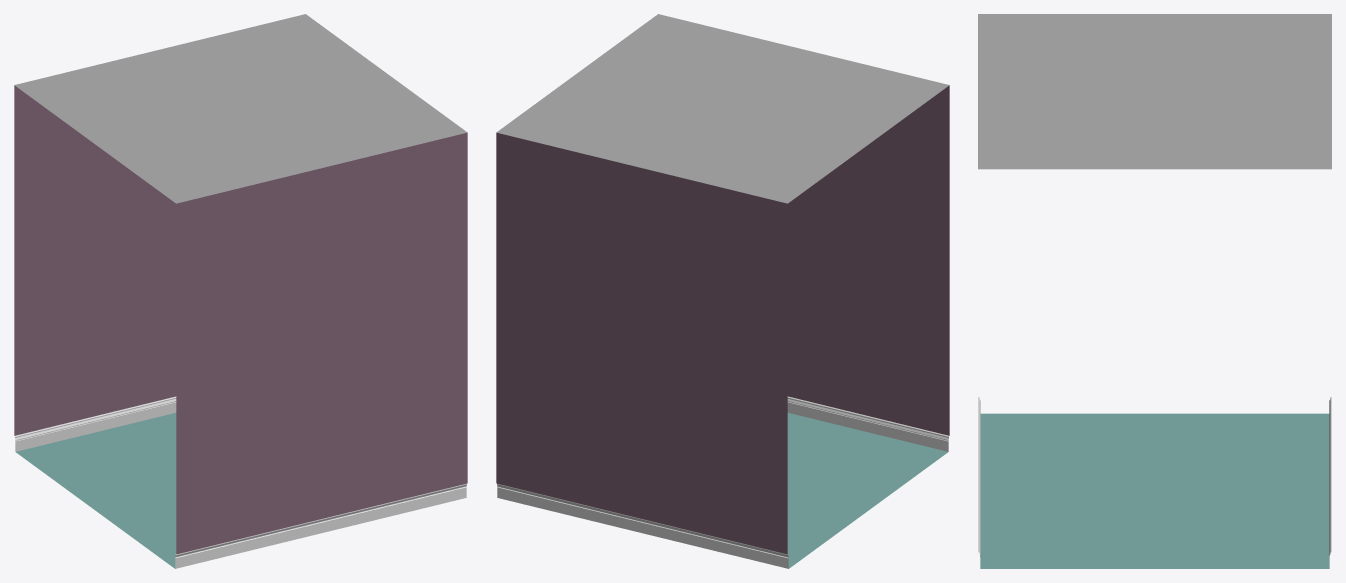
The model's file is corridor_test.fbx.
3 views of the same model, side by side, from view 1: azimuth 30°, elevation 25°; view 2: azimuth 150°, elevation 25°; view 3: azimuth 270°, elevation 25° (orthographic). The views are drawn at different scales.
Visible parts, largest first — view 1: Corridor_no_doors4; view 2: Corridor_no_doors4; view 3: Corridor_no_doors4.
Part boxes in pixels (<box>): Corridor_no_doors4: <box>14,14,467,568</box>; Corridor_no_doors4: <box>496,14,949,568</box>; Corridor_no_doors4: <box>978,14,1331,568</box>.
Bounding box in the file's own units: 2 × 2.4 × 1.92.
